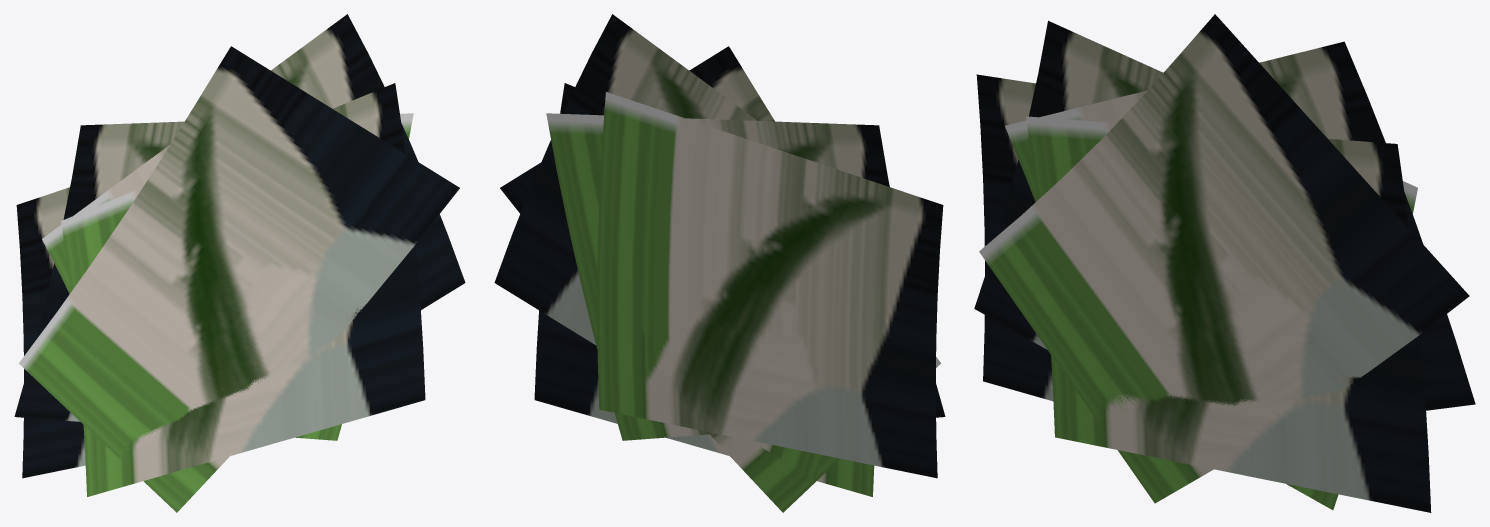
File: Planta_PC_02.fbx
The picture shows the model from 3 angles, left to right: view 1: azimuth 30°, elevation 25°; view 2: azimuth 150°, elevation 25°; view 3: azimuth 330°, elevation 25°; orthographic projection. The views are drawn at different scales.
Parts seen in each view (by area): view 1: MASTER_Planta_02; view 2: MASTER_Planta_02; view 3: MASTER_Planta_02.
Boxes of the visible parts, x1,y1,x2,y2 form: MASTER_Planta_02: (14, 14, 465, 512); MASTER_Planta_02: (494, 14, 945, 512); MASTER_Planta_02: (974, 14, 1475, 512).
Size of the model in its own units: 3.68 by 3.57 by 6.58e-05.
